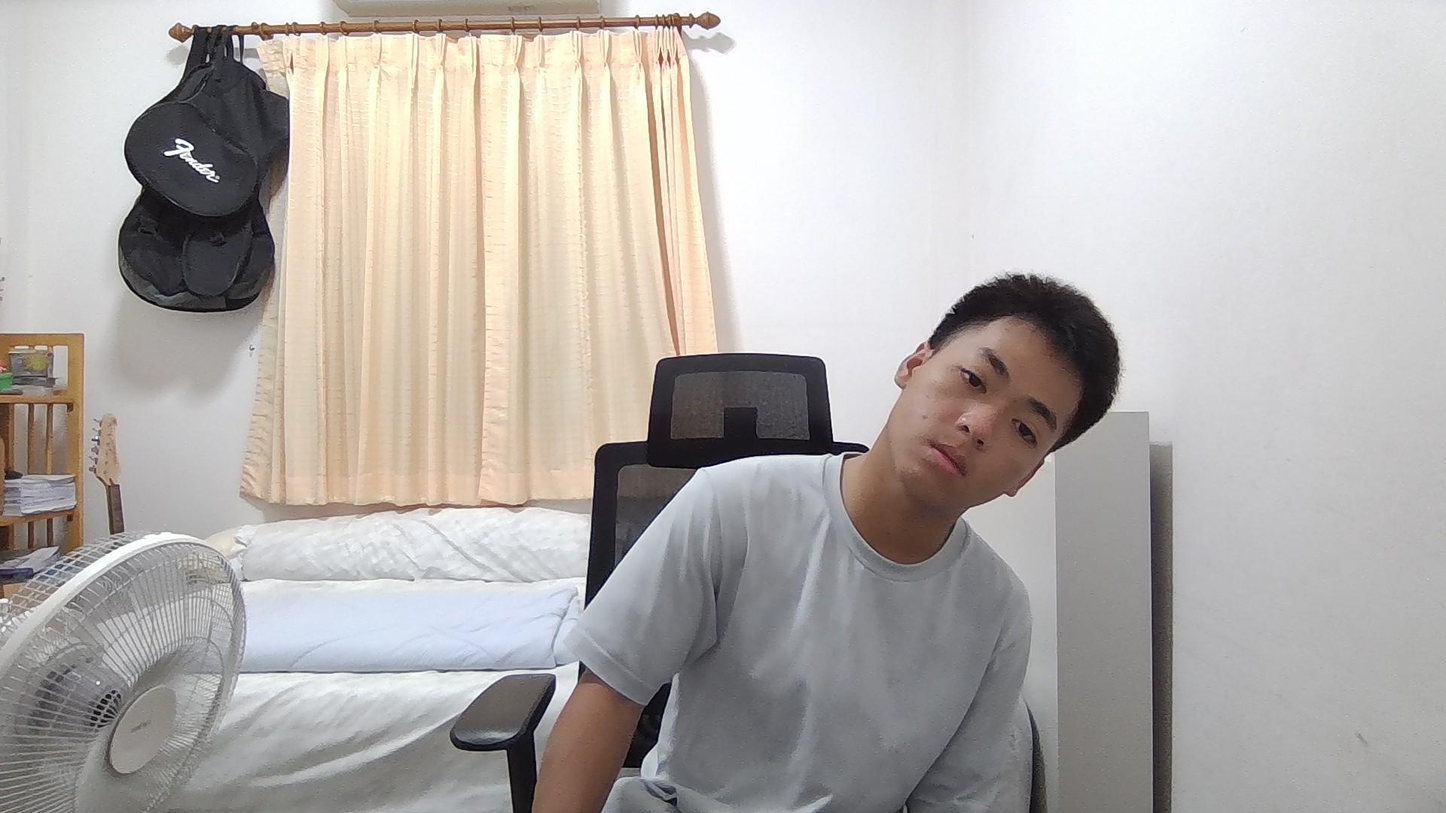BadPosture: (534, 275, 1118, 812)
